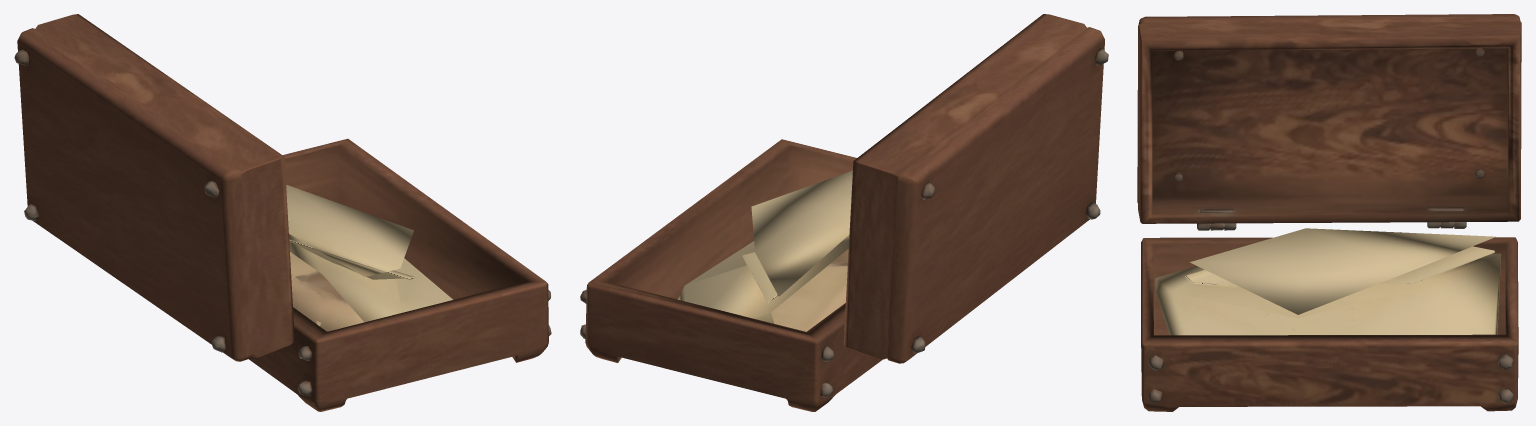
Rendered from letter-tray.obj.
3 views of the same model, side by side, from view 1: azimuth 30°, elevation 25°; view 2: azimuth 150°, elevation 25°; view 3: azimuth 270°, elevation 25° (orthographic). The views are drawn at different scales.
Size of the model in its own units: 0.274 by 0.2 by 0.2729.
1 material, 1 textured.
